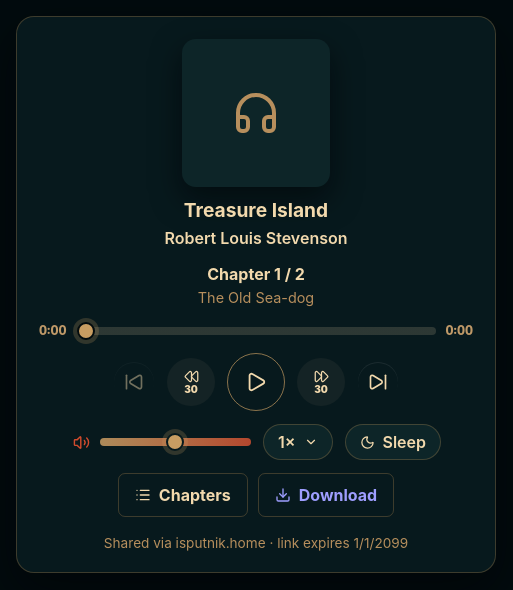
Share page audiobook player › changes speed from its menu and keeps it on the next chapter
Expected: the text "Chapter 1 / 2" is shown, [207,263,305,286]
Click the button named "Playback speed" at (298, 442), box [263,424,332,460]
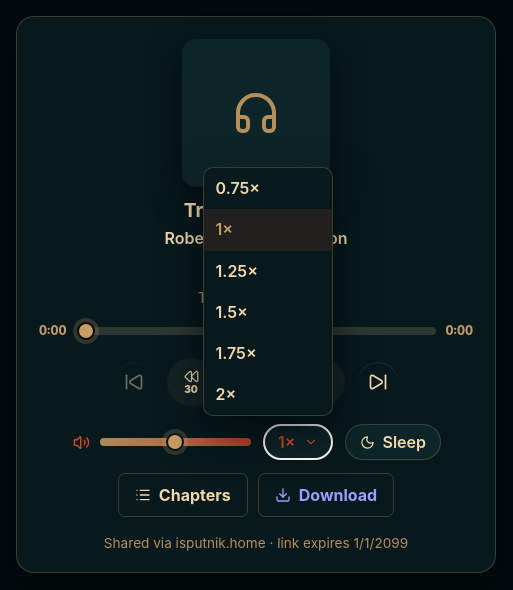
Click the button "1.5×" at (268, 312), box [204,292,332,333]
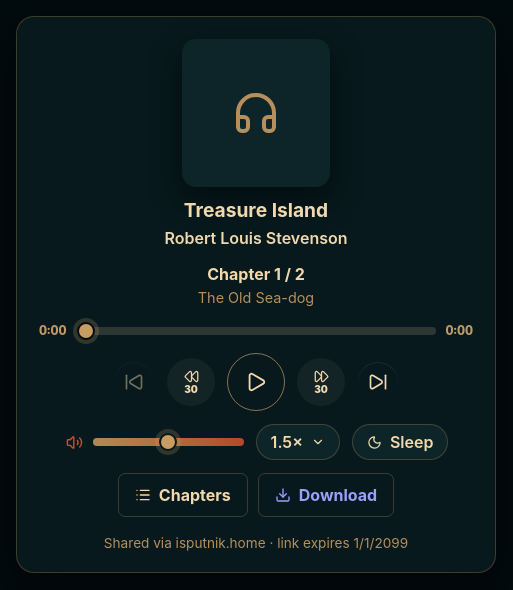
Result: the button named "Playback speed" reads "1.5×" at [256,424,340,460]
Click the button named "Next chapter" at (378, 382), box [357,361,399,403]
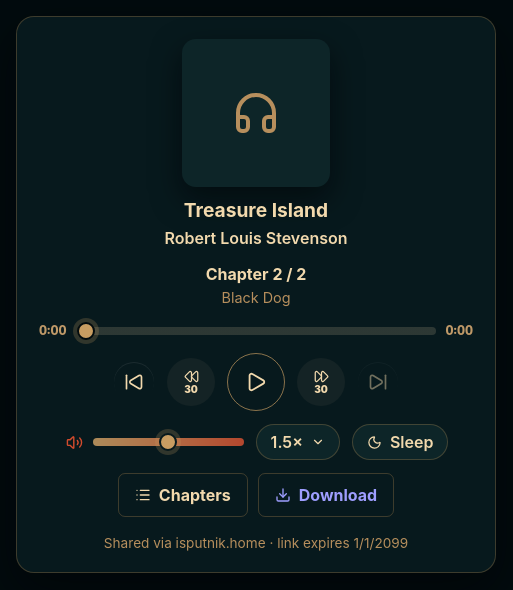
Result: the text "Chapter 2 / 2" is shown at [206,263,306,286]
